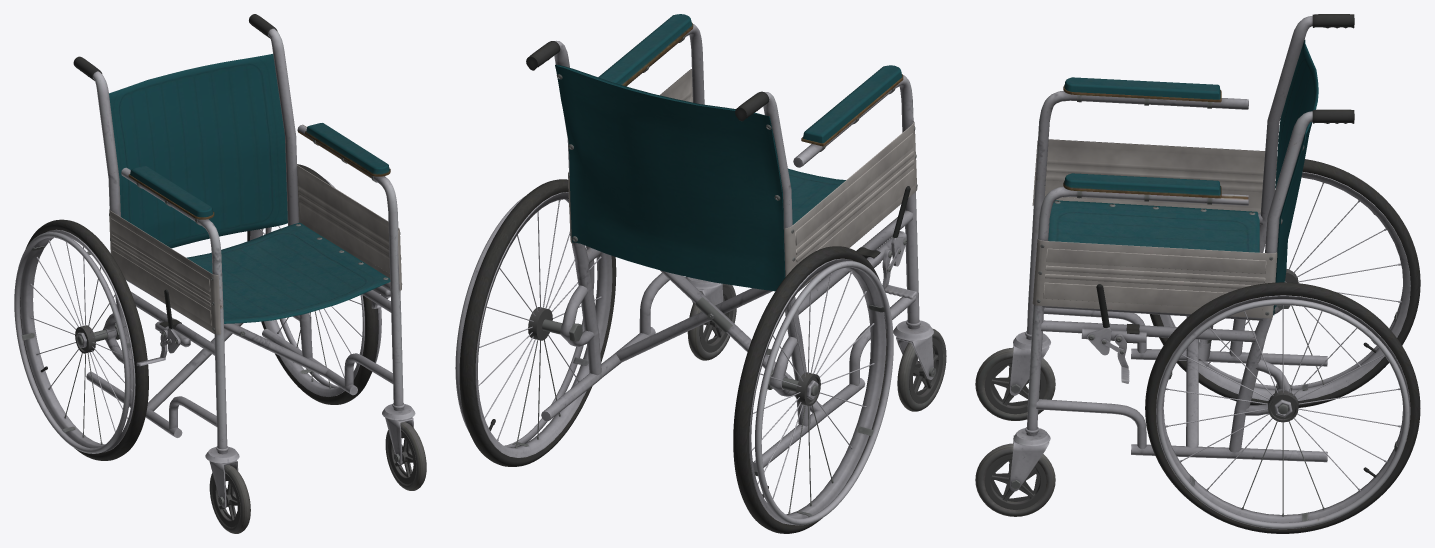
The model's file is wheelChair.fbx.
3 views of the same model, side by side, from view 1: azimuth 30°, elevation 25°; view 2: azimuth 150°, elevation 25°; view 3: azimuth 270°, elevation 25° (orthographic). The views are drawn at different scales.
Visible parts, largest first — view 1: wheelchair_01; view 2: wheelchair_01; view 3: wheelchair_01.
Boxes of the visible parts, left/top/right/bottom form: wheelchair_01: left=14, top=14, right=426, bottom=533; wheelchair_01: left=455, top=14, right=946, bottom=533; wheelchair_01: left=975, top=14, right=1420, bottom=533.
Size of the model in its own units: 82.41 by 110 by 109.
